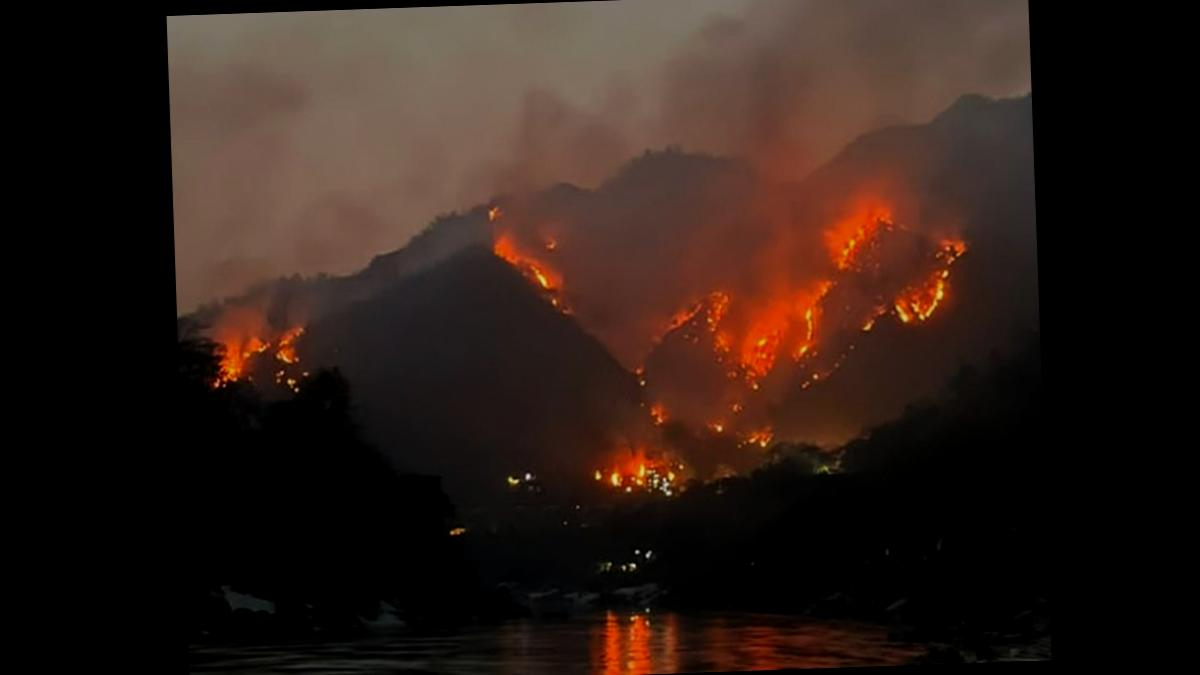fire: (470, 218, 580, 306), (212, 302, 306, 390), (886, 234, 960, 324), (600, 443, 693, 512), (736, 290, 800, 377), (821, 196, 886, 264)
